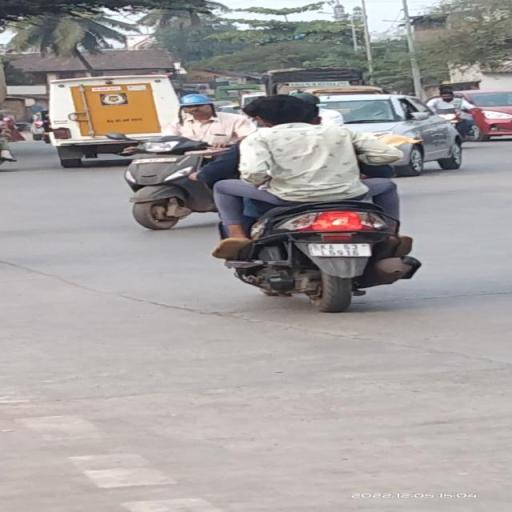bike: (216, 92, 420, 314)
numberplate: (311, 242, 371, 258)
withouthelmet: (250, 96, 310, 124)
